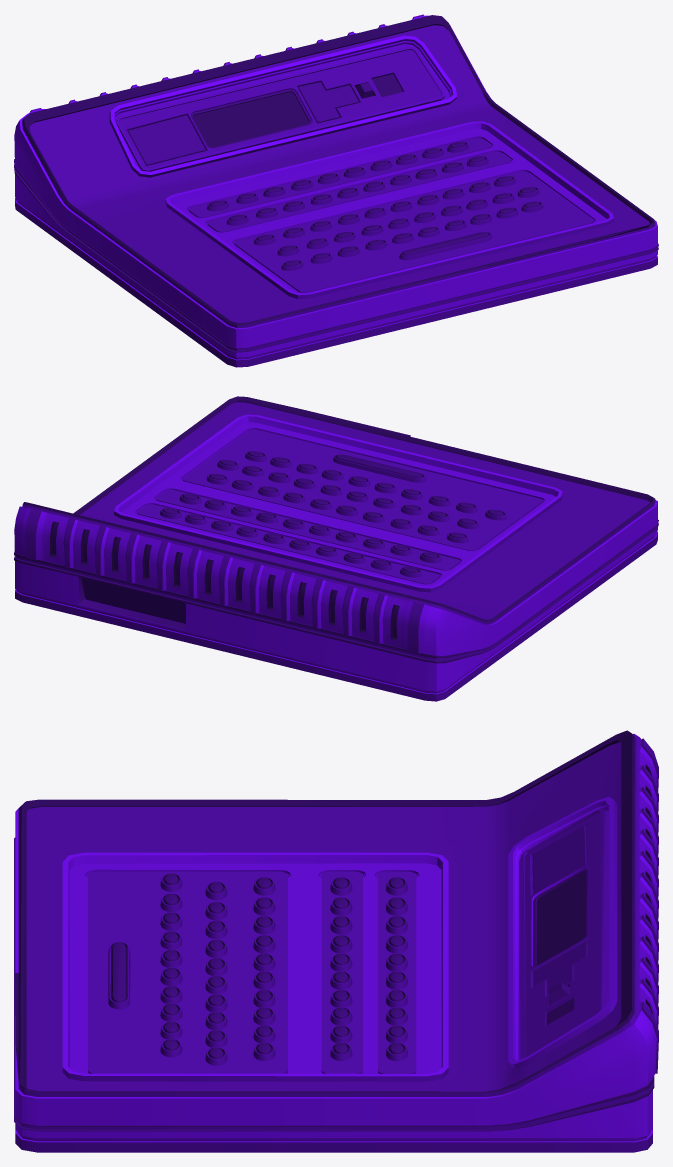
The model's file is Magnavox Odyssey².gltf.
The picture shows the model from 3 angles, top to bottom: view 1: azimuth 30°, elevation 25°; view 2: azimuth 150°, elevation 25°; view 3: azimuth 270°, elevation 25°; orthographic projection. The views are drawn at different scales.
Parts seen in each view (by area): view 1: Magnavox Odyssey², Magnavox Odyssey².003, Magnavox Odyssey².002, Magnavox Odyssey².001; view 2: Magnavox Odyssey².002, Magnavox Odyssey².003, Magnavox Odyssey², Magnavox Odyssey².001; view 3: Magnavox Odyssey², Magnavox Odyssey².003, Magnavox Odyssey².002, Magnavox Odyssey².001.
Boxes of the visible parts, x1=… form: Magnavox Odyssey²: x1=29, y1=25, x2=649, y2=322; Magnavox Odyssey².003: x1=172, y1=129, x2=606, y2=293; Magnavox Odyssey².002: x1=14, y1=14, x2=658, y2=367; Magnavox Odyssey².001: x1=23, y1=15, x2=655, y2=325; Magnavox Odyssey².002: x1=14, y1=500, x2=658, y2=701; Magnavox Odyssey².003: x1=121, y1=422, x2=555, y2=586; Magnavox Odyssey²: x1=80, y1=402, x2=649, y2=619; Magnavox Odyssey².001: x1=23, y1=396, x2=655, y2=621; Magnavox Odyssey²: x1=26, y1=742, x2=621, y2=1091; Magnavox Odyssey².003: x1=69, y1=863, x2=441, y2=1073; Magnavox Odyssey².002: x1=14, y1=734, x2=658, y2=1152; Magnavox Odyssey².001: x1=15, y1=730, x2=634, y2=1093.
Size of the model in its own units: 0.6782 by 0.1412 by 0.6221.
Materials: 1 (1 with a texture image).
